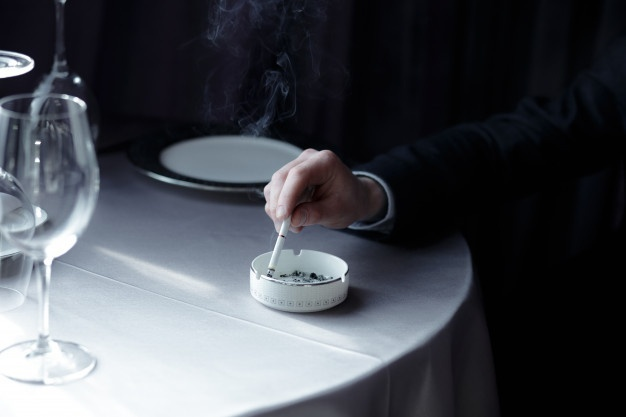sigaretta: (266, 203, 295, 277)
